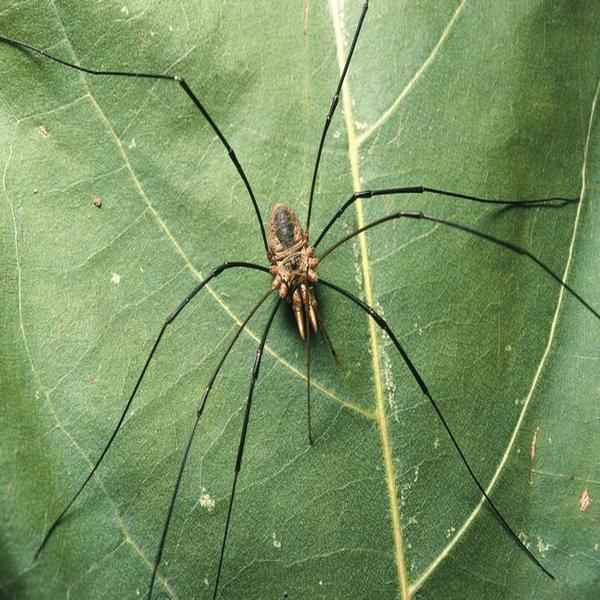Daddy Long Legs Spider: (16, 18, 581, 577)
